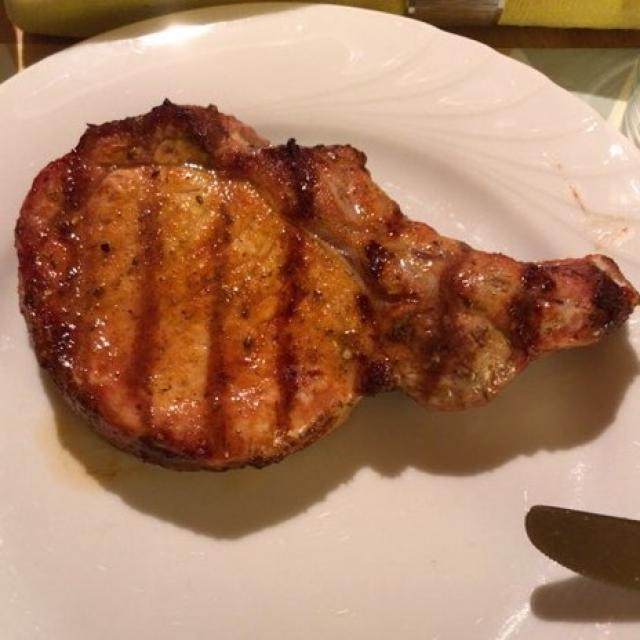pork: (21, 106, 626, 470)
